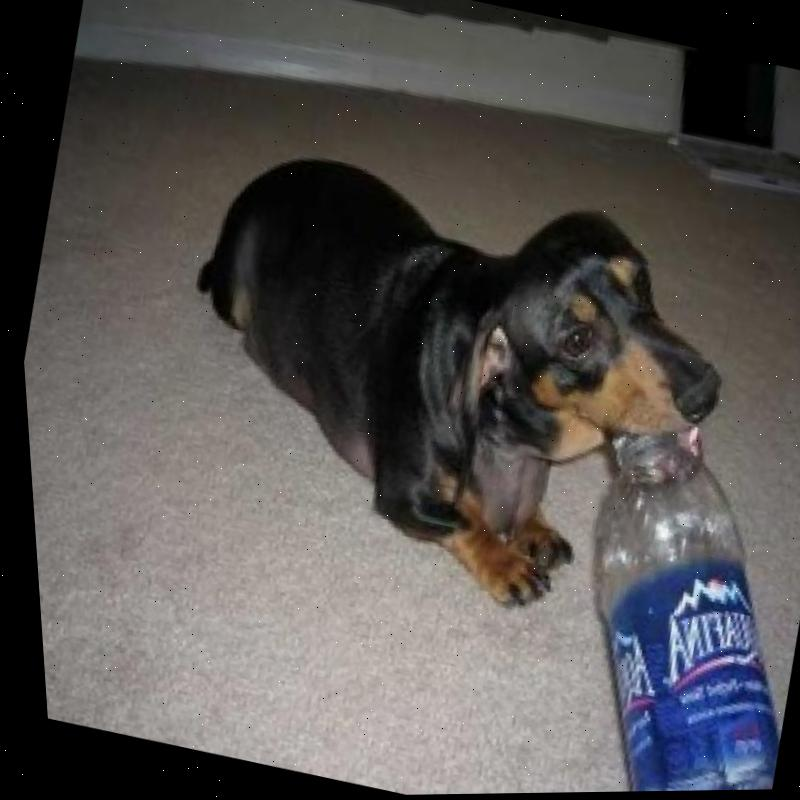botella: (512, 410, 800, 794)
